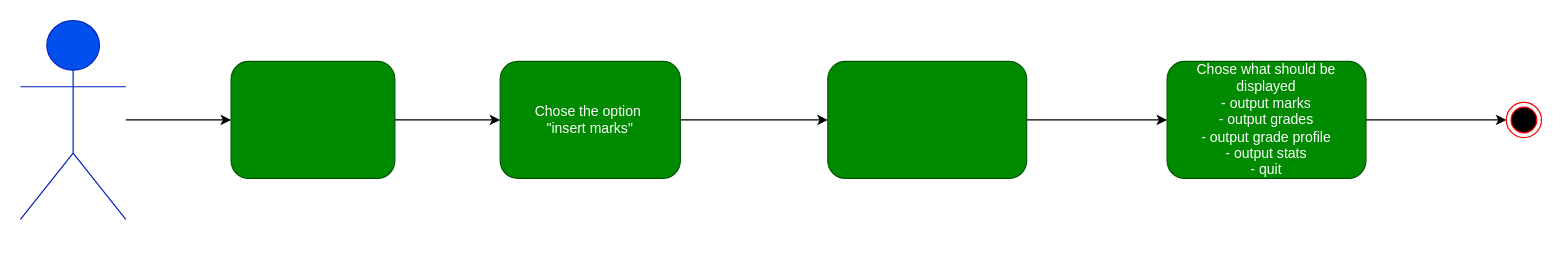
Image size: 1562x264. Some labels were removed from this diagram. The shapes that lost their labels are listed below. From the top down, each one's centre as x and y in pixels, then its label:
[312,119]: Select the option "Student Grades" from the menu.
[927,119]: Insert marks for each student from 1 to 100
